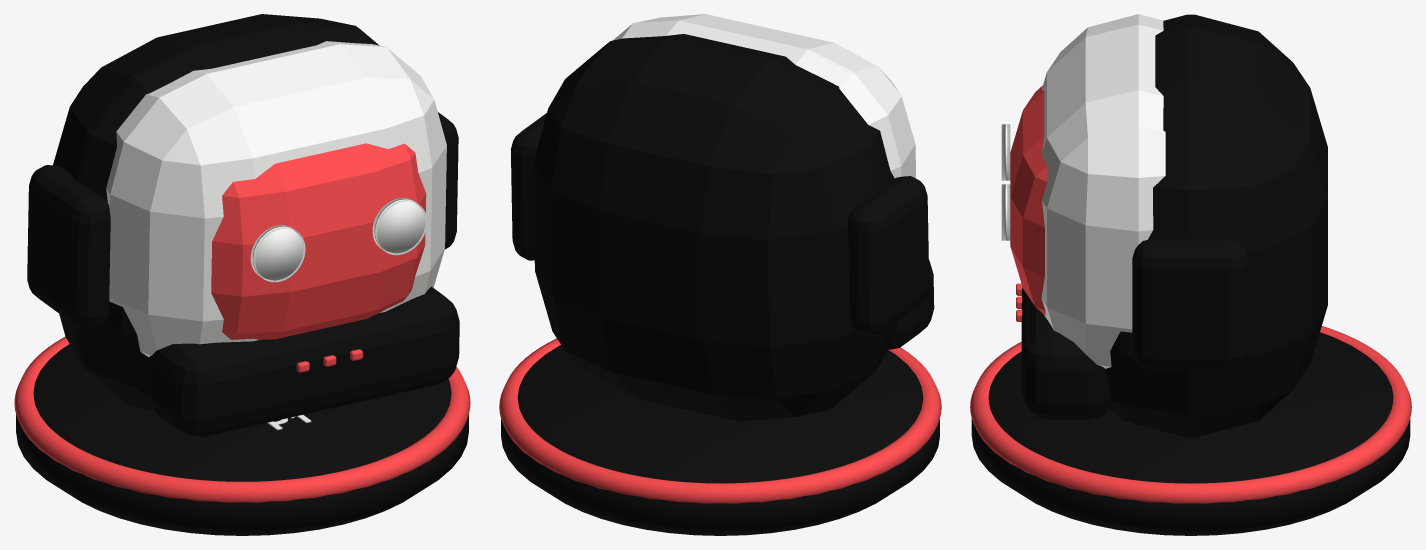
File: player_red.glb
3 renders of one model, left to right at view 1: azimuth 30°, elevation 25°; view 2: azimuth 150°, elevation 25°; view 3: azimuth 270°, elevation 25°, orthographic. The views are drawn at different scales.
Parts seen in each view (by area): view 1: MBR_ASSET_player_red; view 2: MBR_ASSET_player_red; view 3: MBR_ASSET_player_red.
Boxes of the visible parts, x1,y1,x2,y2 form: MBR_ASSET_player_red: (14, 14, 470, 535); MBR_ASSET_player_red: (499, 14, 941, 535); MBR_ASSET_player_red: (970, 14, 1411, 535).
Size of the model in its own units: 0.564 by 0.5664 by 0.564.
